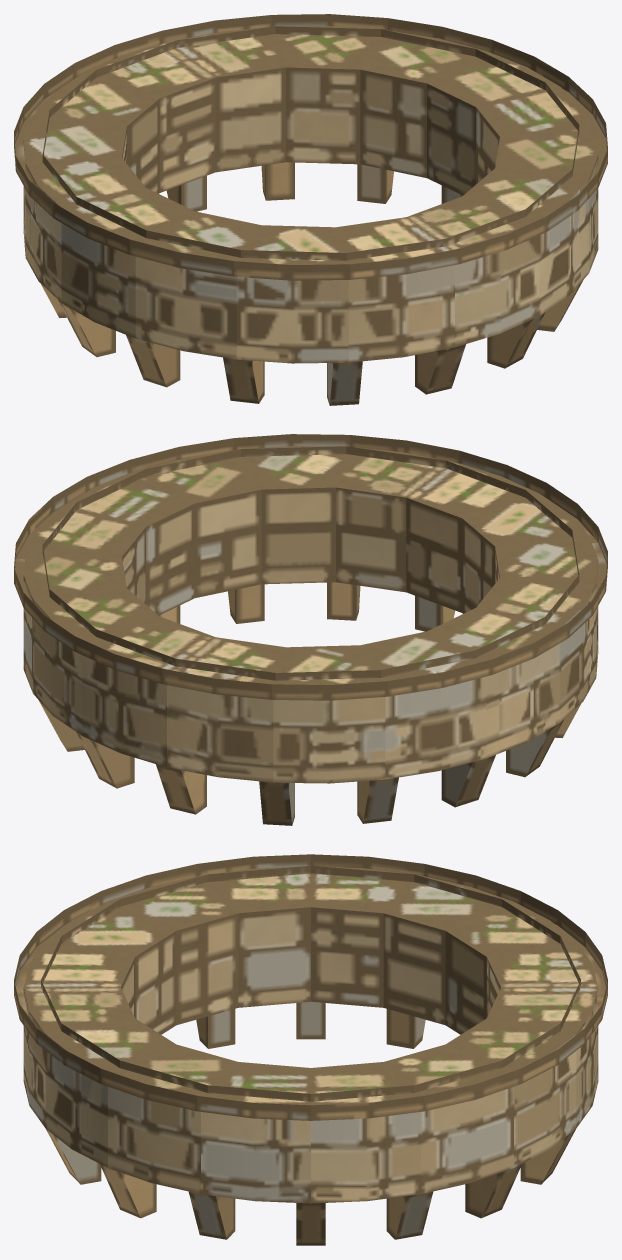
The model's file is Kit_Tower_Crown.fbx.
3 views of the same model, one above another, from view 1: azimuth 30°, elevation 25°; view 2: azimuth 150°, elevation 25°; view 3: azimuth 270°, elevation 25° (orthographic).
Parts seen in each view (by area): view 1: Kit_Tower_Crown_LOD0; view 2: Kit_Tower_Crown_LOD0; view 3: Kit_Tower_Crown_LOD0.
Boxes of the visible parts, box(x1,y1,x2,y2) form: Kit_Tower_Crown_LOD0: box(14, 14, 607, 405); Kit_Tower_Crown_LOD0: box(14, 434, 607, 825); Kit_Tower_Crown_LOD0: box(14, 854, 607, 1245).
Size of what is drawn, in the model's own units: 4.84 by 1.42 by 4.84.
1 material, 1 textured.
